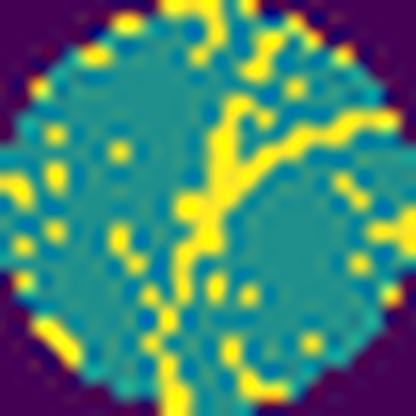Scratch: (164, 90, 402, 313)
